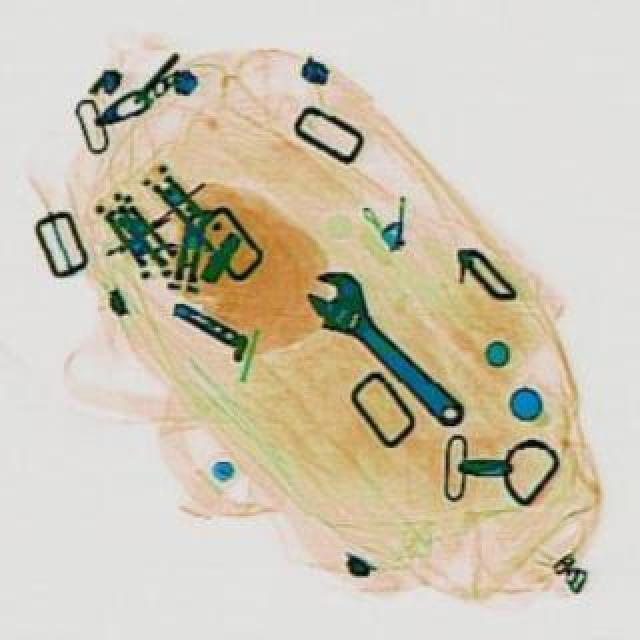scissors: (288, 256, 484, 440)
